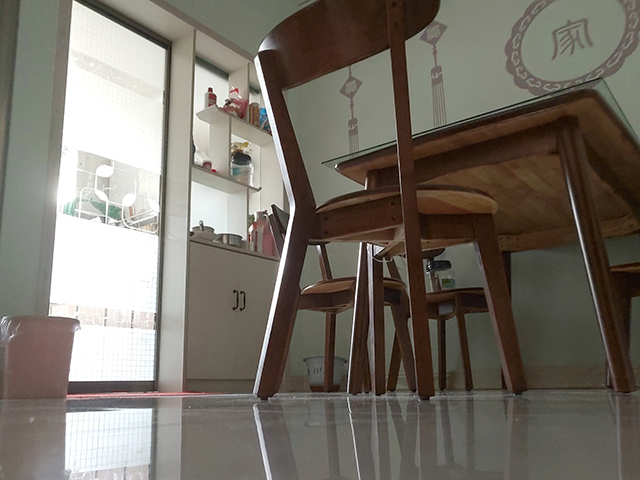cabinet: (156, 235, 290, 394)
carpet: (66, 389, 225, 400)
stool: (251, 1, 530, 402), (259, 200, 420, 399), (604, 260, 640, 394)
table: (319, 75, 640, 395)
trashcan: (1, 312, 82, 402)
